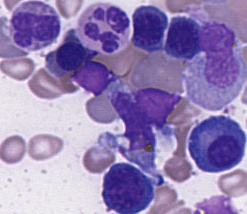objectness: (196, 126, 246, 176), (64, 53, 114, 103), (189, 10, 239, 60), (103, 85, 153, 135), (117, 114, 167, 164), (195, 43, 245, 93), (134, 76, 184, 126), (44, 31, 94, 81), (155, 12, 205, 62), (122, 5, 172, 55), (99, 164, 149, 214), (0, 0, 49, 50), (87, 0, 137, 45)
